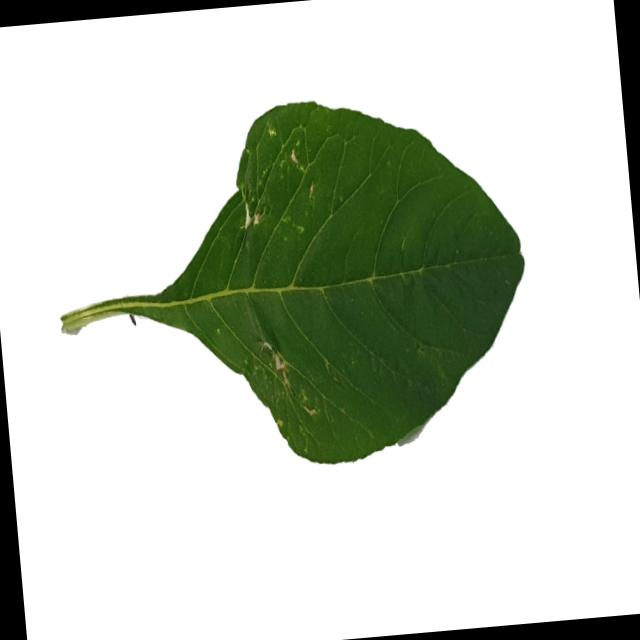Medicinal-Arive Dantu: (48, 85, 542, 487)
